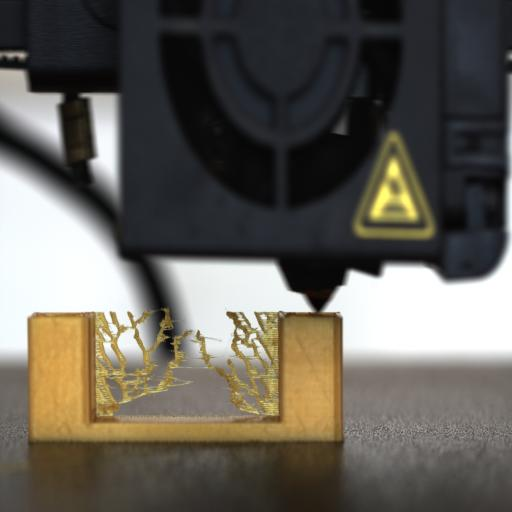stringing: (94, 308, 280, 416)
